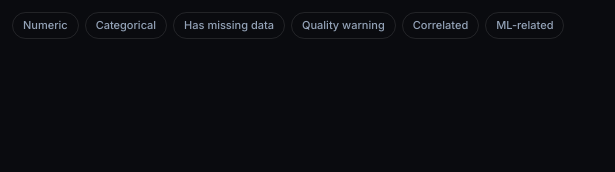
Test: Filters › shows a Clear action only when a filter is active, and it resets every filter
The image size is (615, 172).
Expected: the text "Clear" is not shown
Click the button "Has missing data" at (229, 25), box [173,12,285,38]
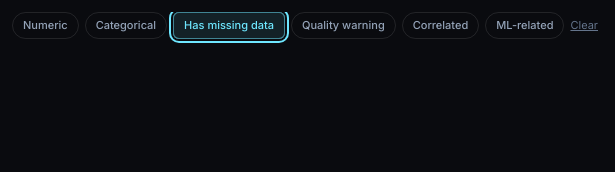
Now the button "Clear" is shown
Click the button "Clear" at (584, 25), box [570,17,598,34]
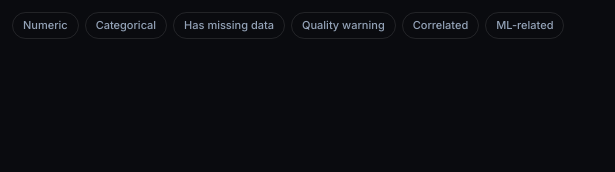
Now the button "Clear" is gone
